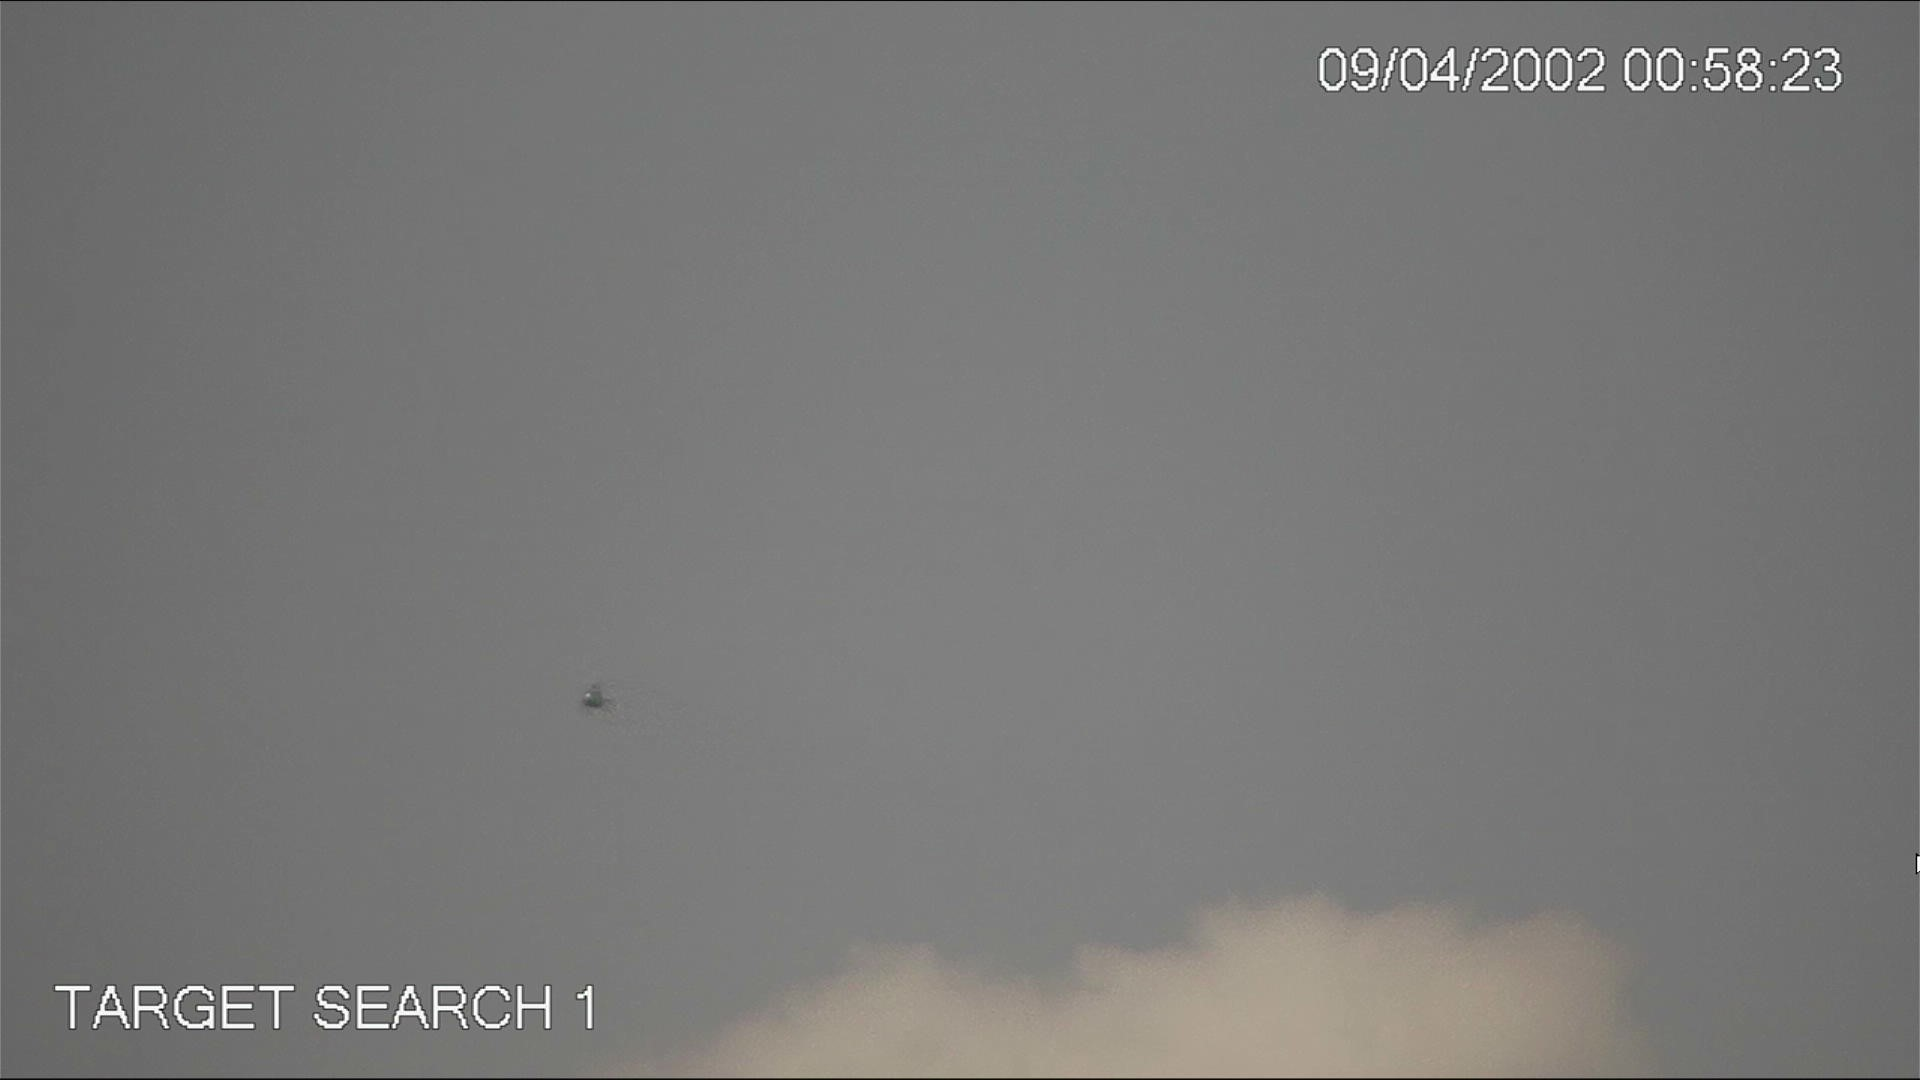SU_30: (578, 688, 608, 712)
